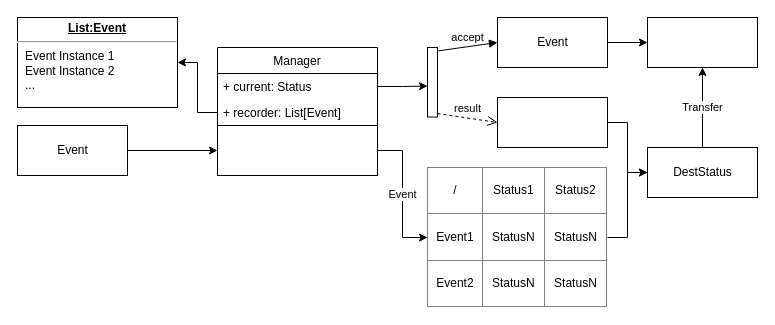
The diagram is 775 pixels wide and 325 high, and some of its shapes have lost their labels. The shapes that lost their labels are listed below. From the top down, each one's centre as x and y in pixels, then its label:
At pixel 702 42: "Current".
At pixel 552 122: "interface enter/exit".
At pixel 297 150: "handle[[Event], NoReturn]".
